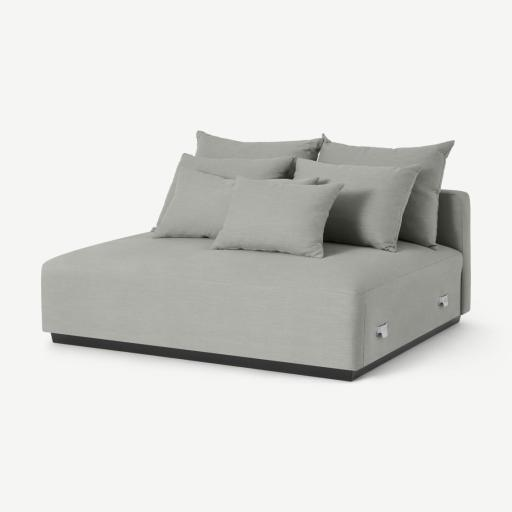back_cushion: (153, 131, 452, 258)
base: (52, 316, 459, 381)
one-seater: (0, 0, 511, 512)
seat_cushion: (42, 232, 467, 378)
